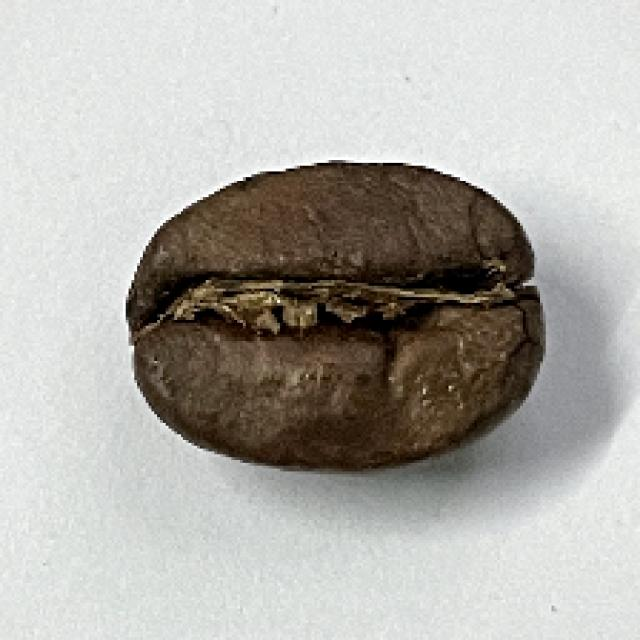bean: (119, 158, 548, 470)
